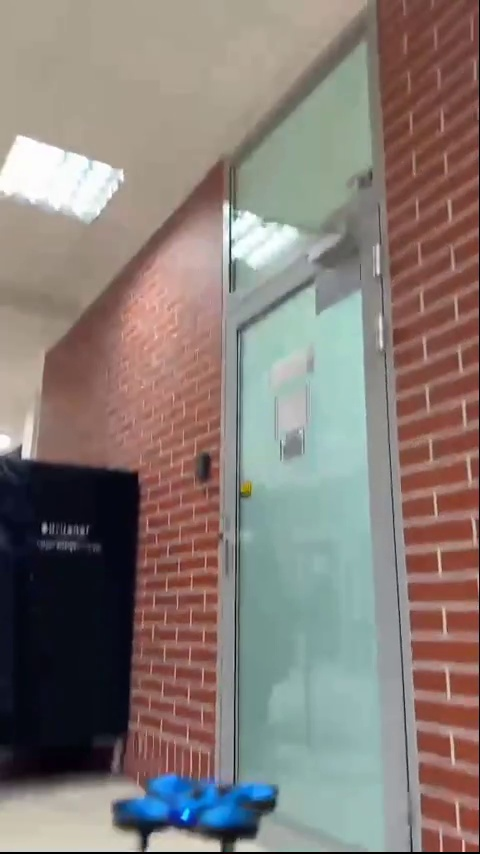drone: (141, 752, 304, 793)
